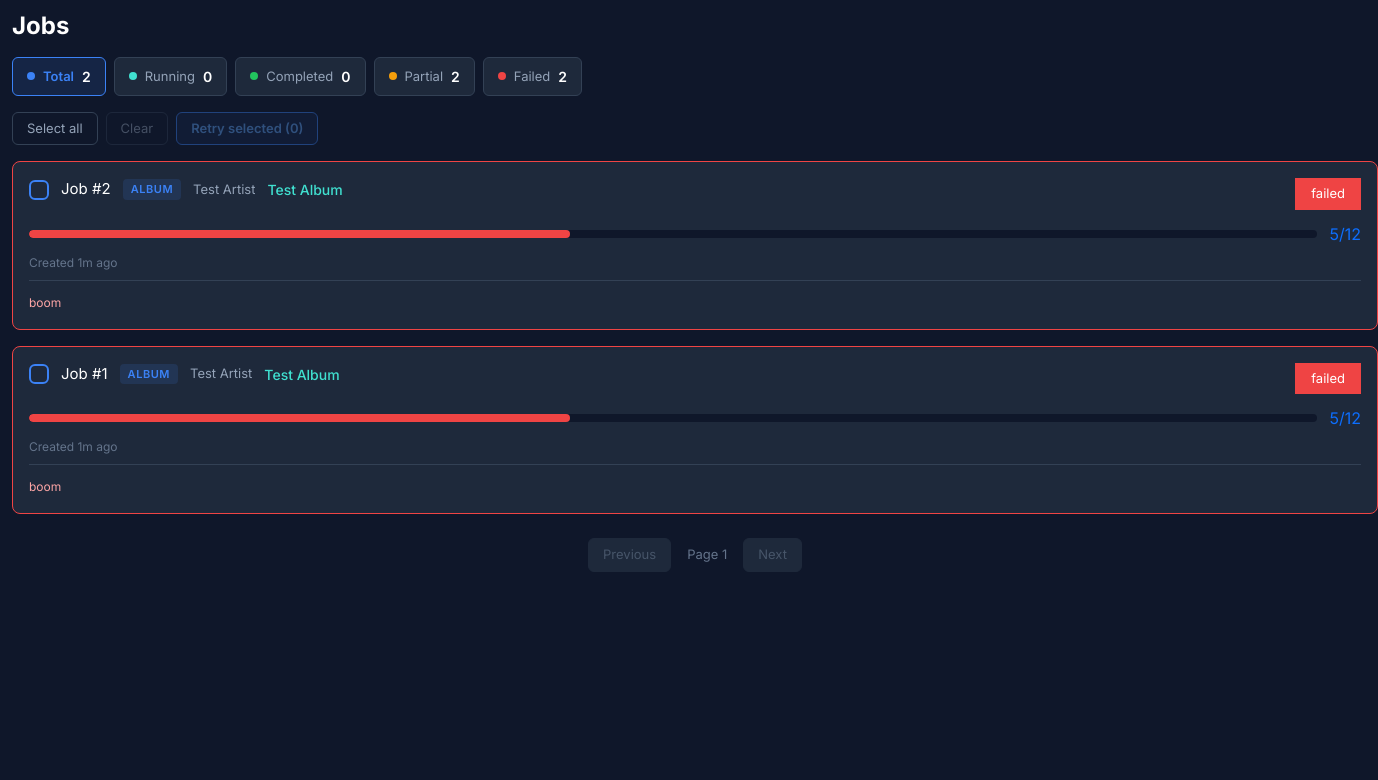
JobsPage retry selection › posts to /jobs/{id}/retry for each selected job and clears selection
The image size is (1378, 780).
Click the checkbox named "Select job" at (39, 374), box [29, 364, 49, 384]
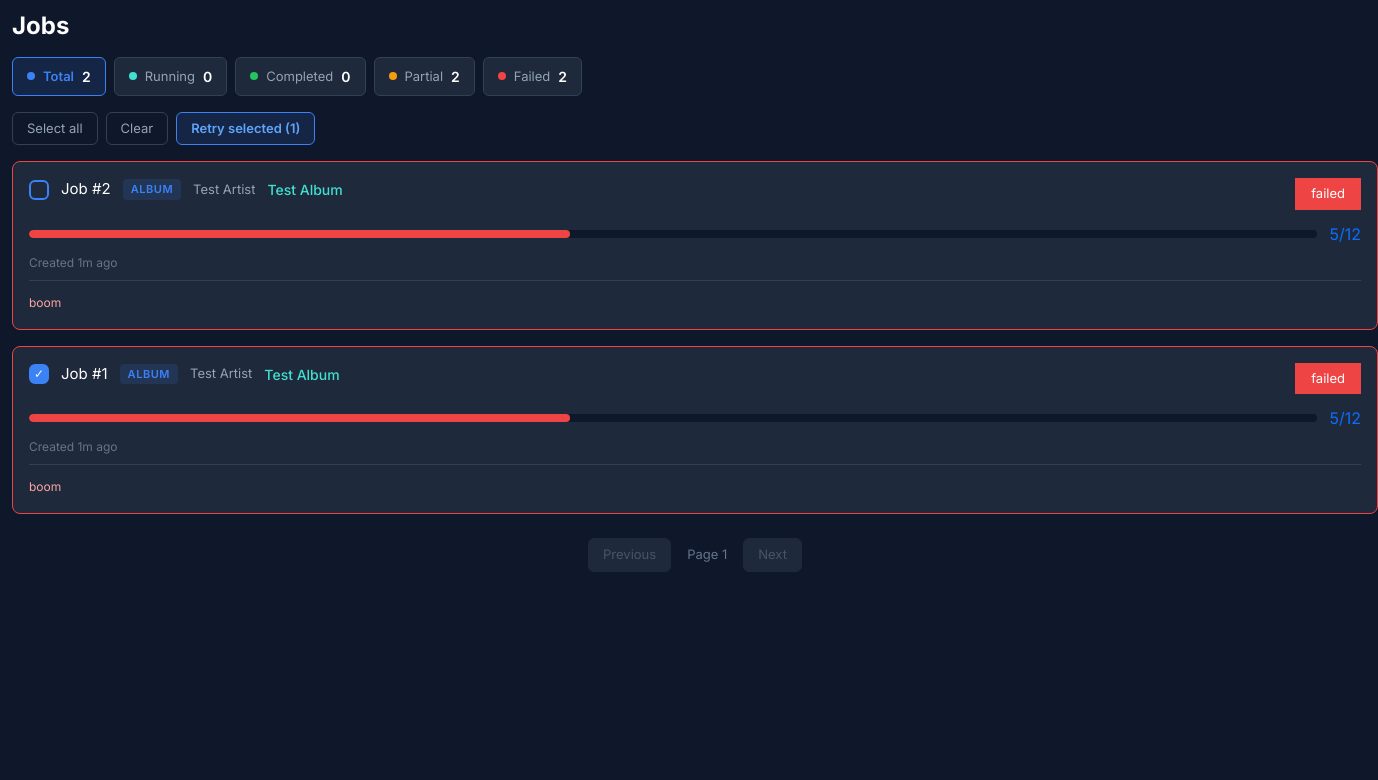
Result: the button "Retry selected (1)" is enabled
Click the button "Retry selected (1)" at (246, 129), box [176, 112, 315, 145]
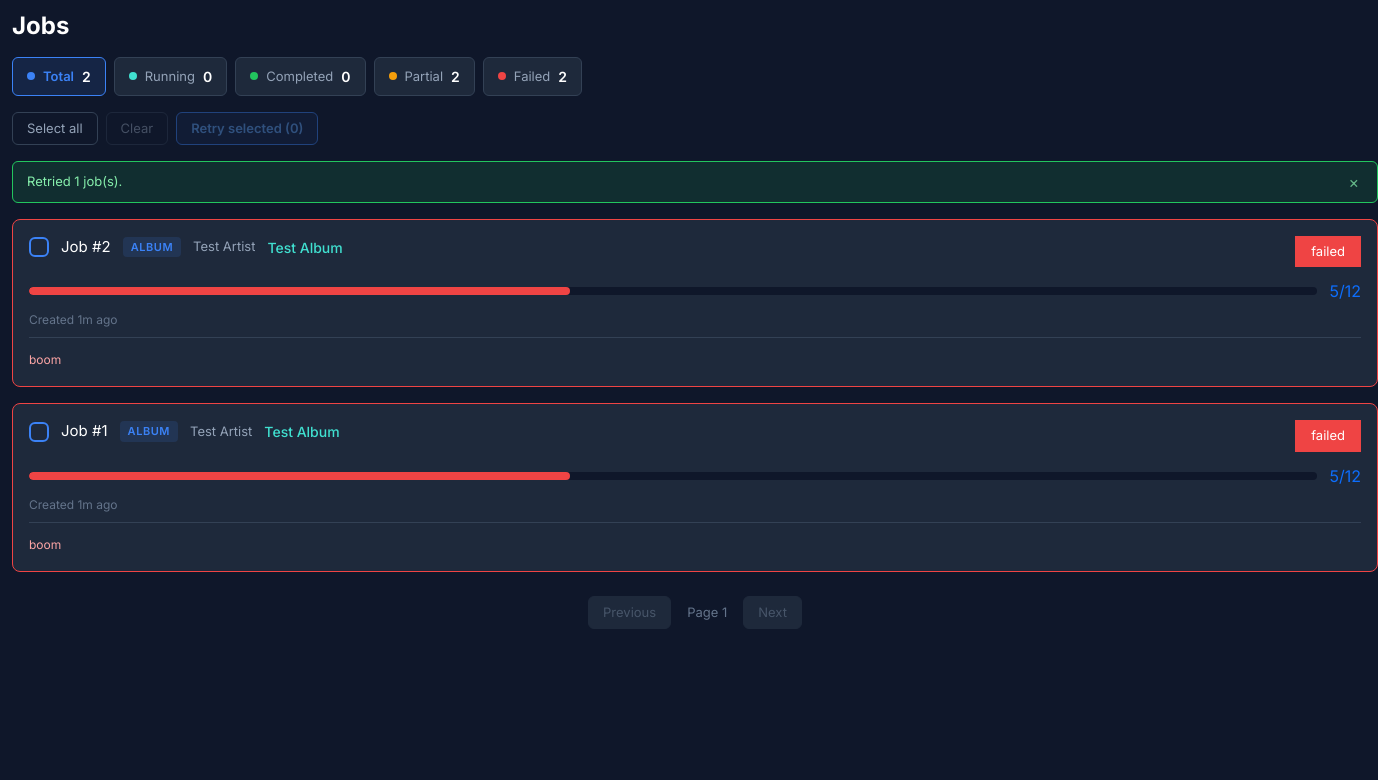
Result: the text "Retried 1 job(s)." is shown at [27, 172, 122, 192]
Result: the button "Retry selected (0)" is disabled at [176, 112, 318, 145]
